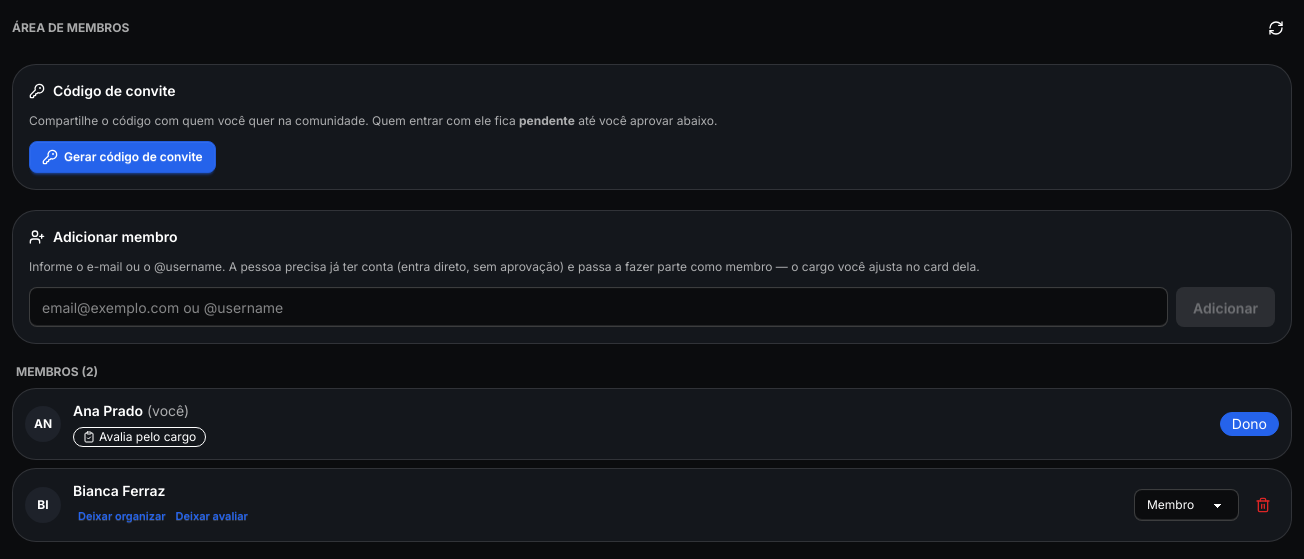
CommunityMembersPanel — quem organiza › dono deixa um membro avaliar, e o servidor recebe enabled verdadeiro
The width and height of the screenshot is (1304, 559).
Click the button "Deixar avaliar" at (212, 517), box [171,505,253,529]
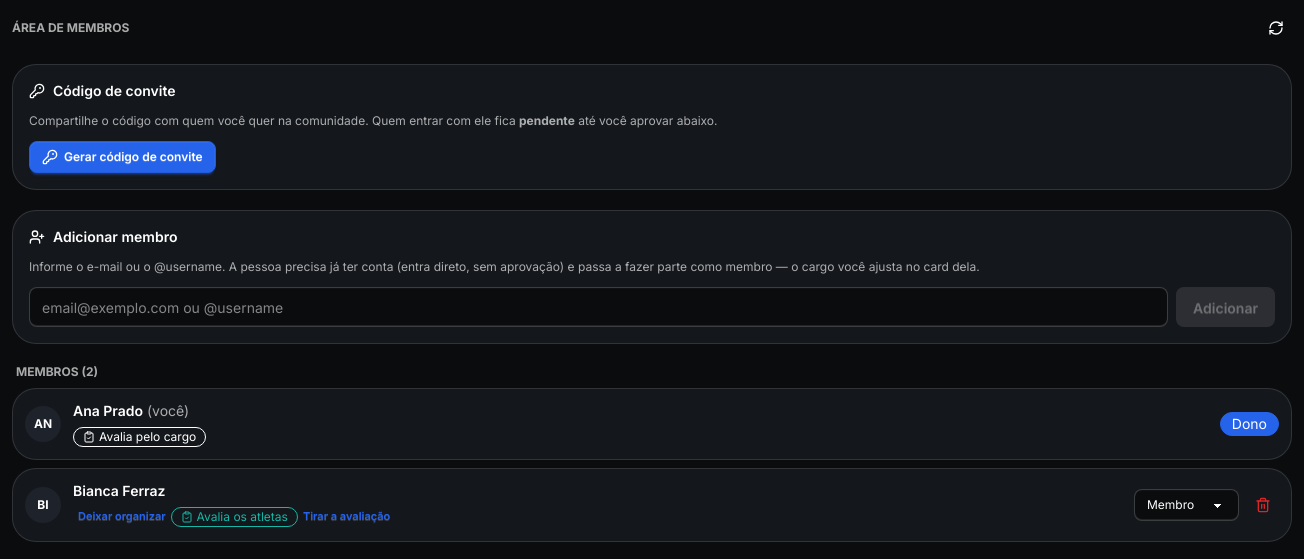
Expected: the text "Avalia os atletas" is shown, [171,507,298,527]
